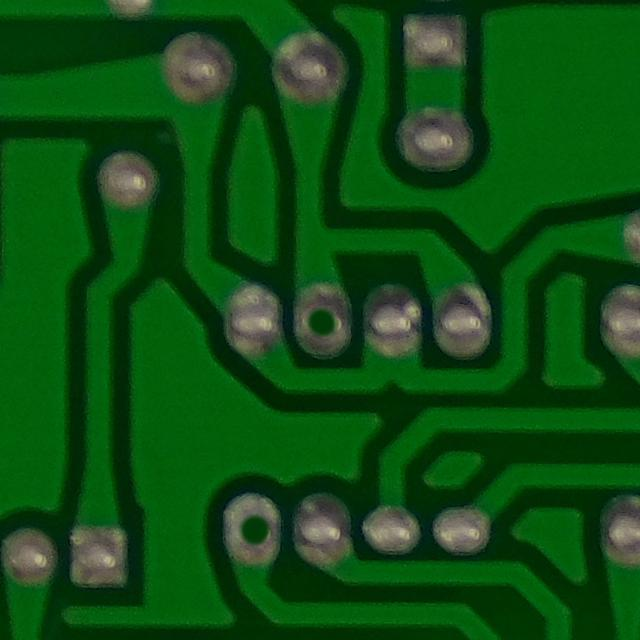missing_hole: (279, 277, 361, 364)
